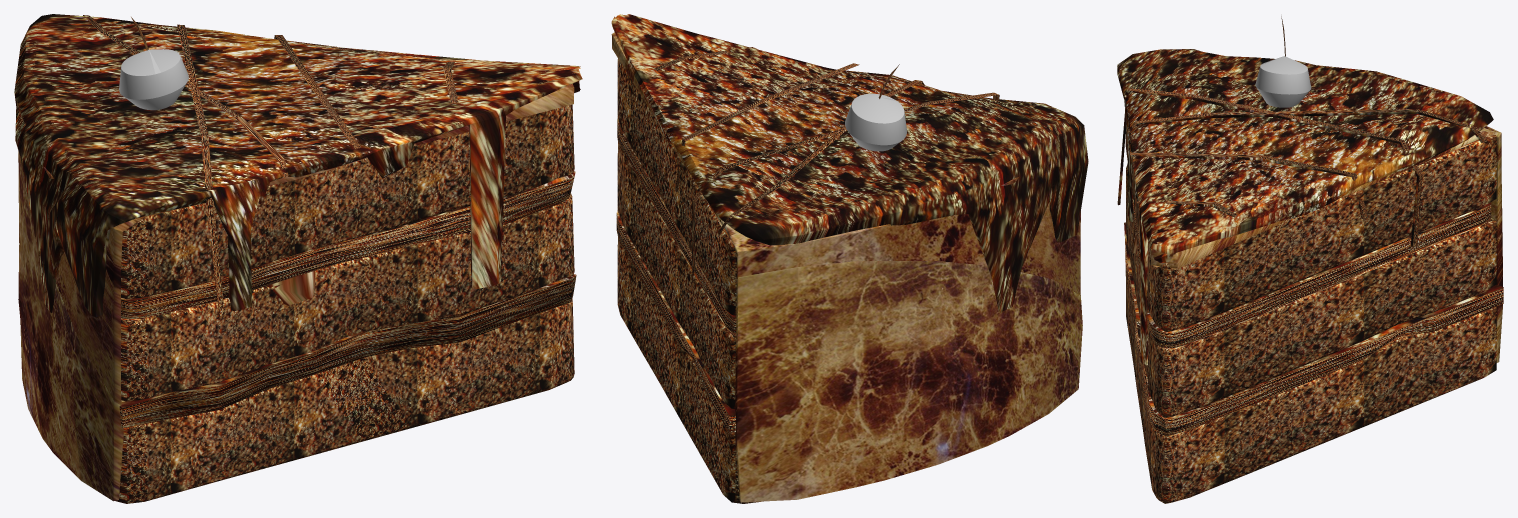
File: Pastel_Rebanada3.obj
3 views of the same model, side by side, from view 1: azimuth 30°, elevation 25°; view 2: azimuth 150°, elevation 25°; view 3: azimuth 270°, elevation 25° (orthographic). The views are drawn at different scales.
Parts seen in each view (by area): view 1: polySurface39; view 2: polySurface39; view 3: polySurface39.
Part boxes in pixels (left/top/right/bottom): polySurface39: left=14, top=14, right=582, bottom=503; polySurface39: left=611, top=14, right=1088, bottom=503; polySurface39: left=1117, top=16, right=1503, bottom=503.
Size of the model in its own units: 0.2501 by 0.1917 by 0.1992.
